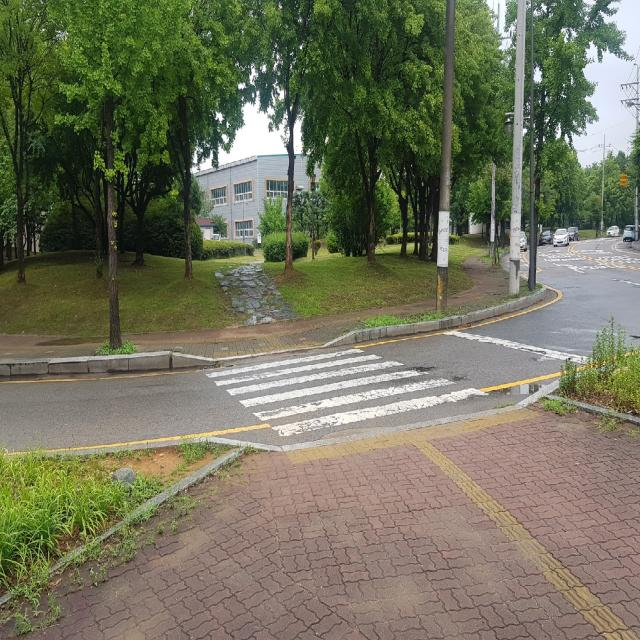횡단보도: (204, 345, 491, 440)
